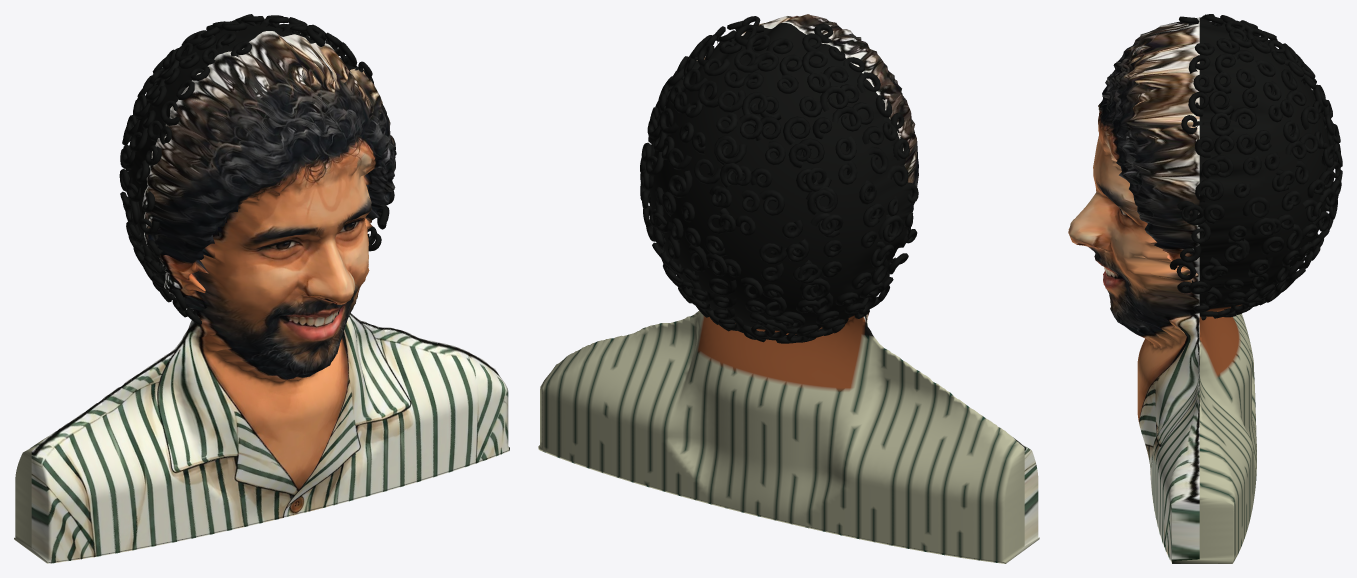
File: raj-bust.glb
3 renders of one model, left to right at view 1: azimuth 30°, elevation 25°; view 2: azimuth 150°, elevation 25°; view 3: azimuth 270°, elevation 25°, orthographic. The views are drawn at different scales.
Parts seen in each view (by area): view 1: Raj_Bust; view 2: Raj_Bust; view 3: Raj_Bust.
Boxes of the visible parts, left/top/right/bottom form: Raj_Bust: left=14, top=14, right=509, bottom=563; Raj_Bust: left=538, top=14, right=1039, bottom=563; Raj_Bust: left=1068, top=14, right=1342, bottom=563.
Bounding box in the file's own units: 0.8963 × 0.8609 × 0.4949.
2 materials, 1 textured.
